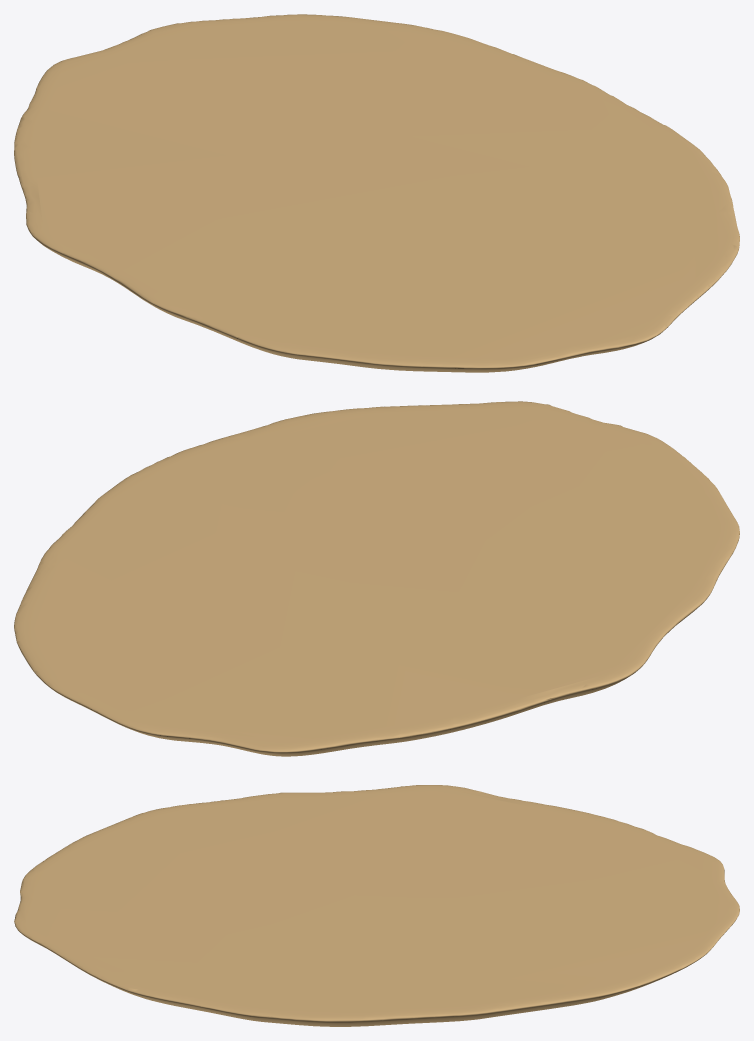
File: Sand Blobs.fbx
3 renders of one model, top to bottom at view 1: azimuth 30°, elevation 25°; view 2: azimuth 150°, elevation 25°; view 3: azimuth 270°, elevation 25°, orthographic. The views are drawn at different scales.
Visible parts, largest first — view 1: Dune_Wave_Double; view 2: Dune_Wave_Double; view 3: Dune_Wave_Double.
Part boxes in pixels (x1,y1,x2,y2): Dune_Wave_Double: [14, 14, 739, 372]; Dune_Wave_Double: [14, 401, 739, 756]; Dune_Wave_Double: [14, 785, 739, 1026].
Bounding box in the file's own units: 9285 × 1022 × 12087.
